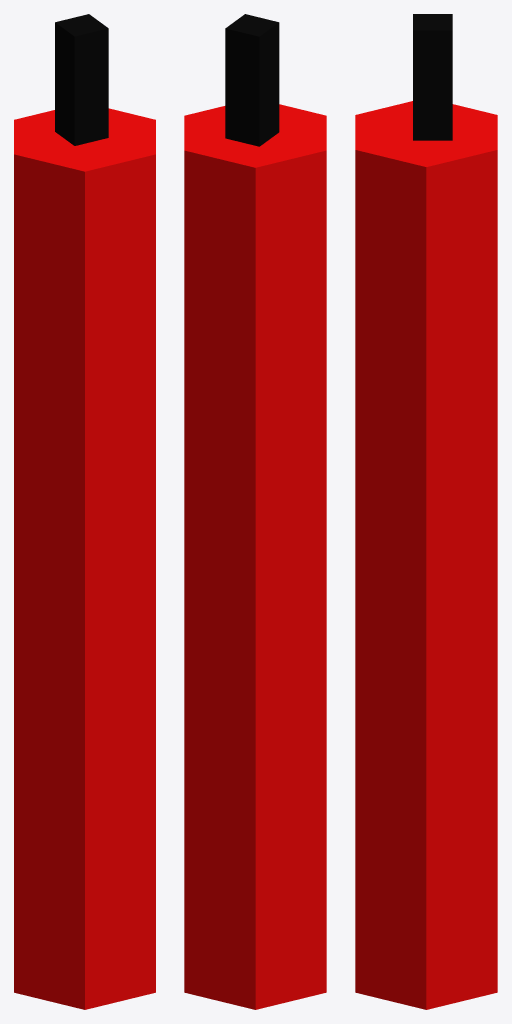
File: kynttila2_red.FBX
3 renders of one model, left to right at view 1: azimuth 30°, elevation 25°; view 2: azimuth 150°, elevation 25°; view 3: azimuth 270°, elevation 25°, orthographic.
Visible parts, largest first — view 1: Kynttila2_red; view 2: Kynttila2_red; view 3: Kynttila2_red.
Boxes of the visible parts, box(x1,y1,x2,y2) form: Kynttila2_red: box(14, 14, 155, 1009); Kynttila2_red: box(184, 14, 326, 1009); Kynttila2_red: box(355, 14, 497, 1009).
Size of the model in its own units: 10 by 63.9 by 8.66.
